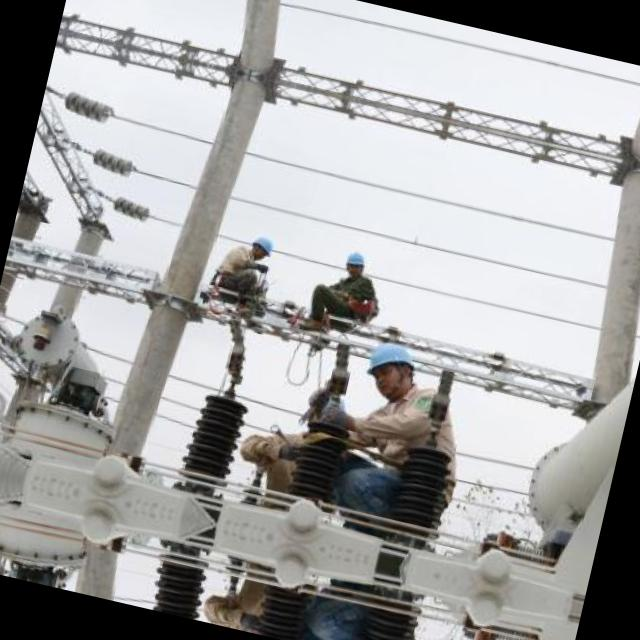helmet: (354, 330, 428, 406), (244, 233, 277, 266), (341, 244, 370, 278)
